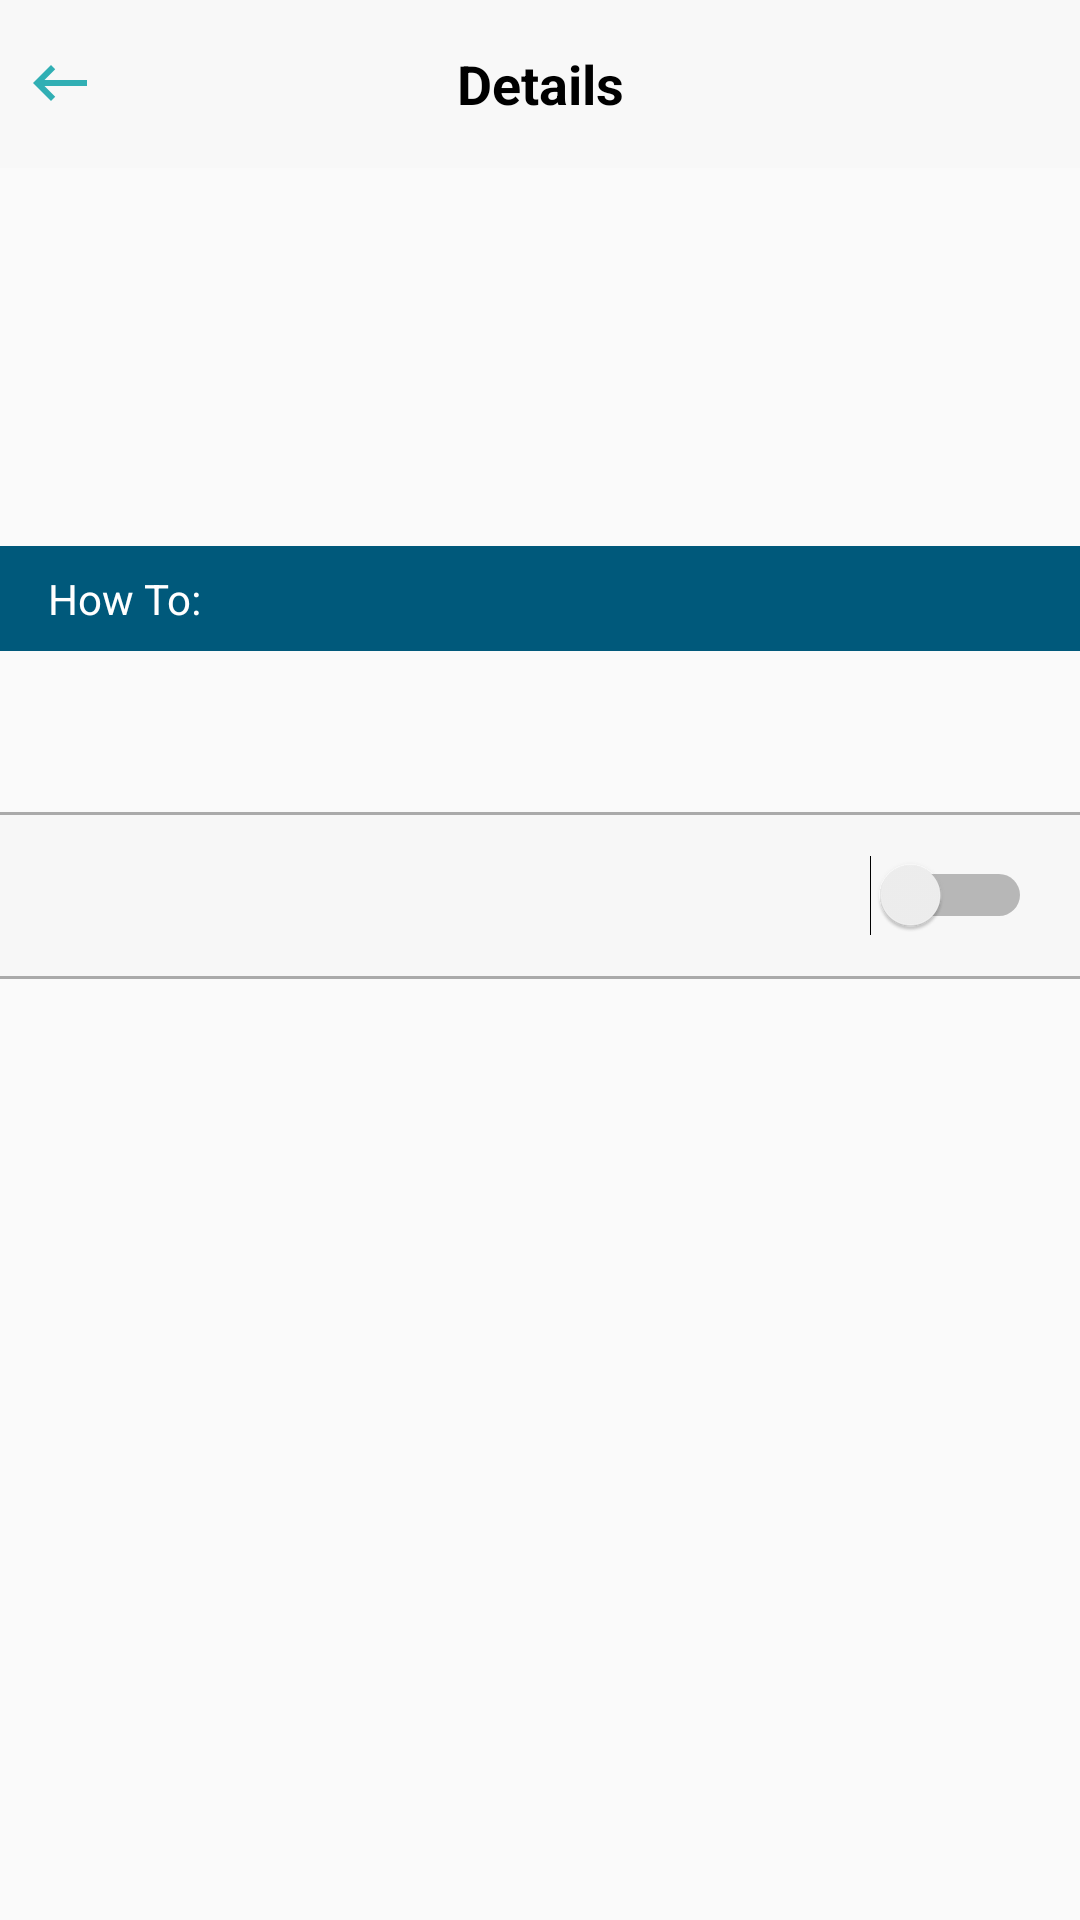

Locate icon controls on the screen. Image size 1080 × 1920, boxes as bbox(x1, y1, x2, y2).
back: bbox(33, 65, 87, 101)
